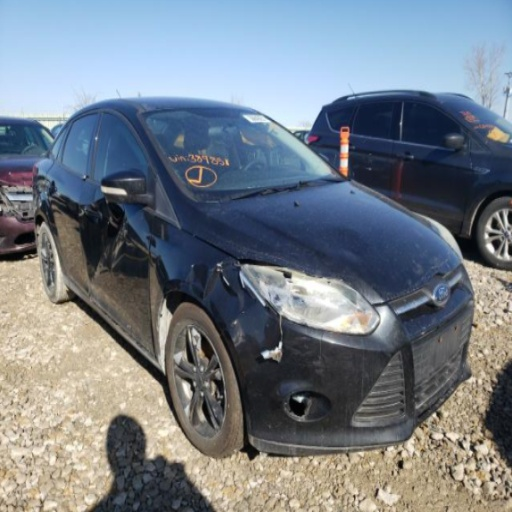dent: (185, 260, 274, 333), (76, 198, 144, 290)
rust: (232, 319, 244, 348), (198, 343, 213, 360), (208, 380, 217, 399)
scratch: (216, 261, 241, 296)
